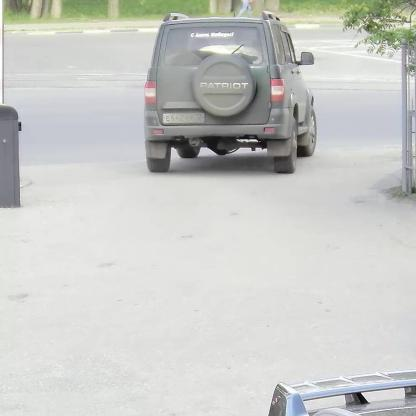plate: (163, 112, 205, 124)
